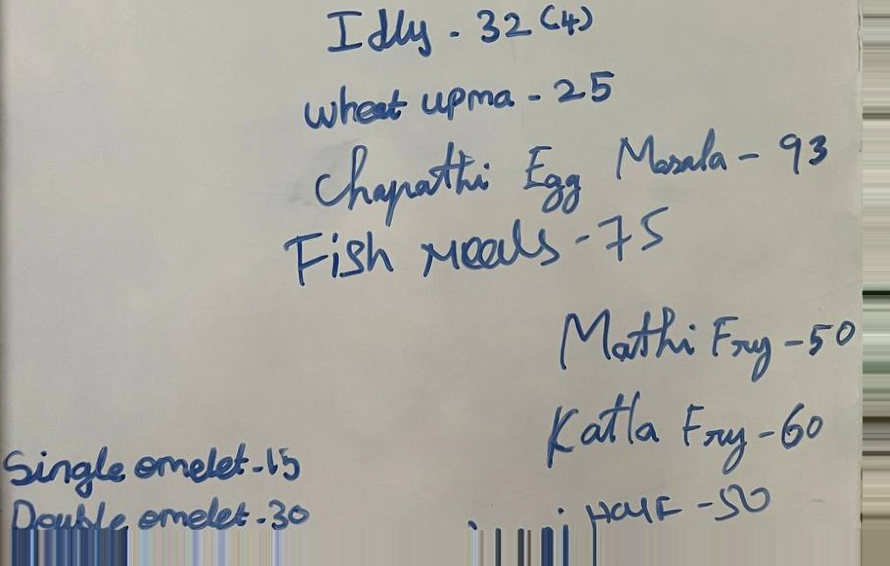chapathi egg masala - 93: (312, 130, 855, 206)
double omelet - 30: (10, 491, 313, 533)
fish Meals - 75: (281, 211, 672, 286)
idly(4) - 32: (318, 1, 597, 63)
katla fry - 60: (542, 389, 828, 473)
mathi fry - 50: (551, 300, 860, 385)
single omelet - 15: (3, 442, 303, 494)
wheat upma - 25: (299, 66, 616, 134)
